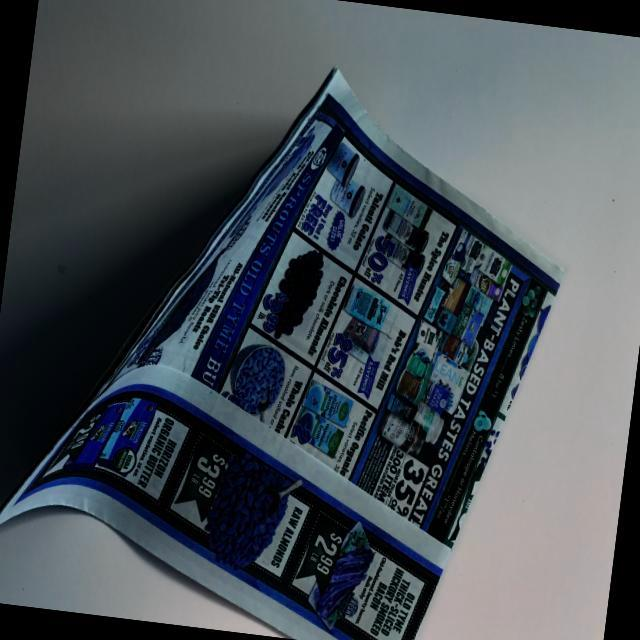paper: (0, 25, 609, 640)
